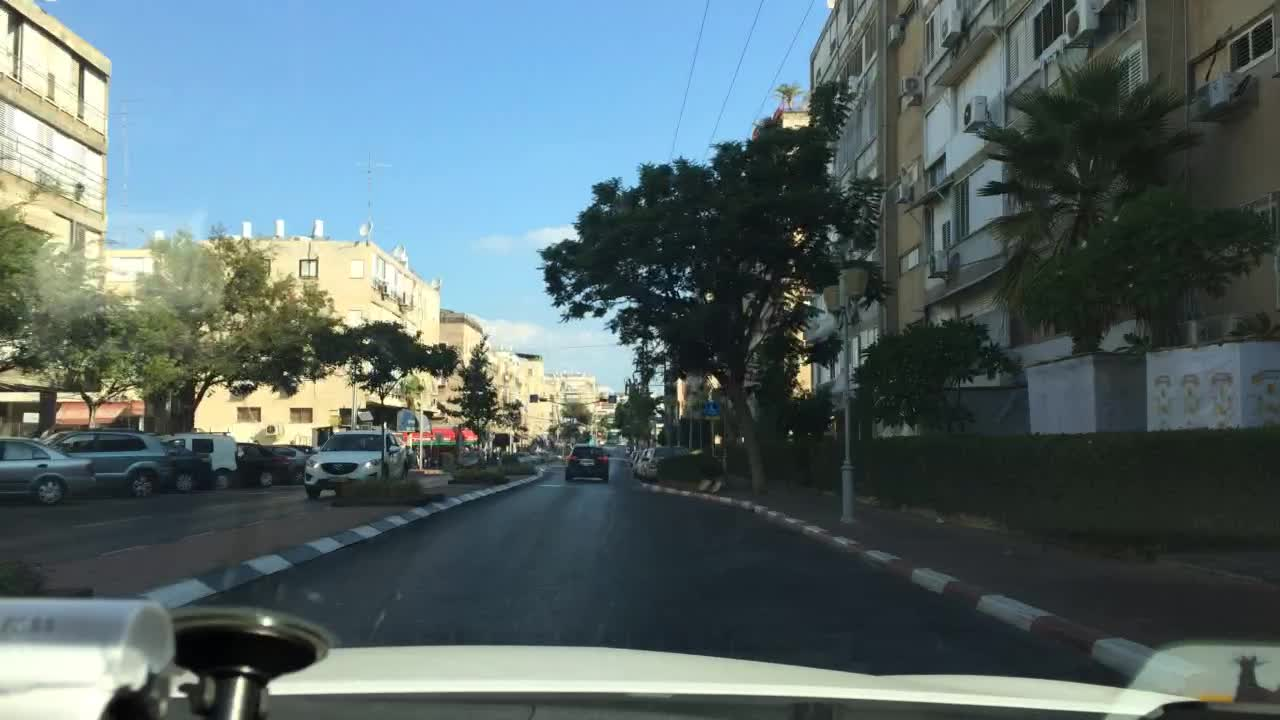car: (33, 428, 215, 495), (302, 422, 415, 502), (0, 434, 99, 504), (157, 426, 239, 486), (234, 441, 308, 487), (635, 442, 694, 475), (564, 444, 611, 483), (265, 441, 309, 481), (286, 442, 319, 467), (461, 450, 487, 471), (634, 446, 652, 473), (518, 450, 535, 468), (627, 450, 640, 469), (529, 450, 541, 464), (623, 445, 632, 457)
traffic sign: (393, 406, 418, 433), (702, 401, 720, 420)
